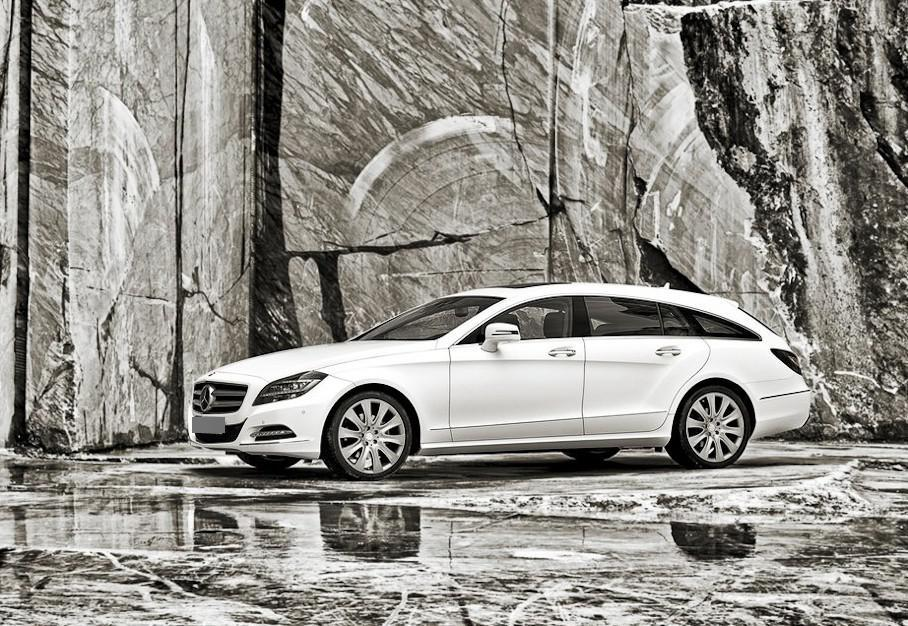Wagon: (186, 280, 813, 483)
